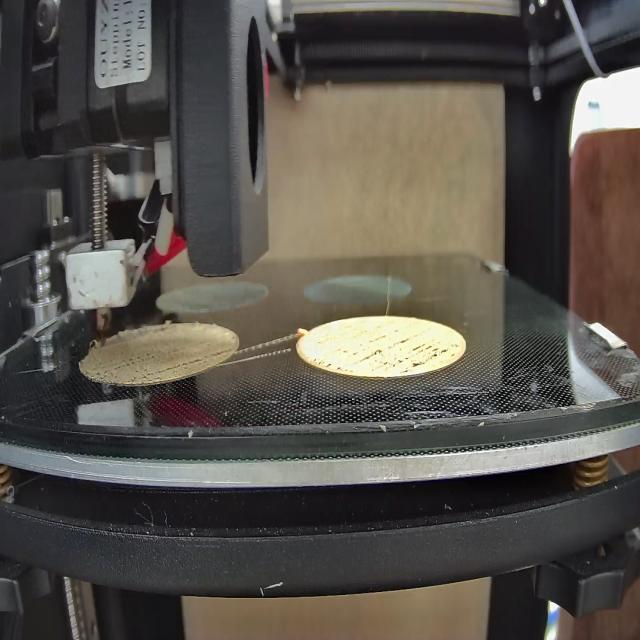under_extrusion: (314, 338, 464, 372), (118, 348, 230, 379)
